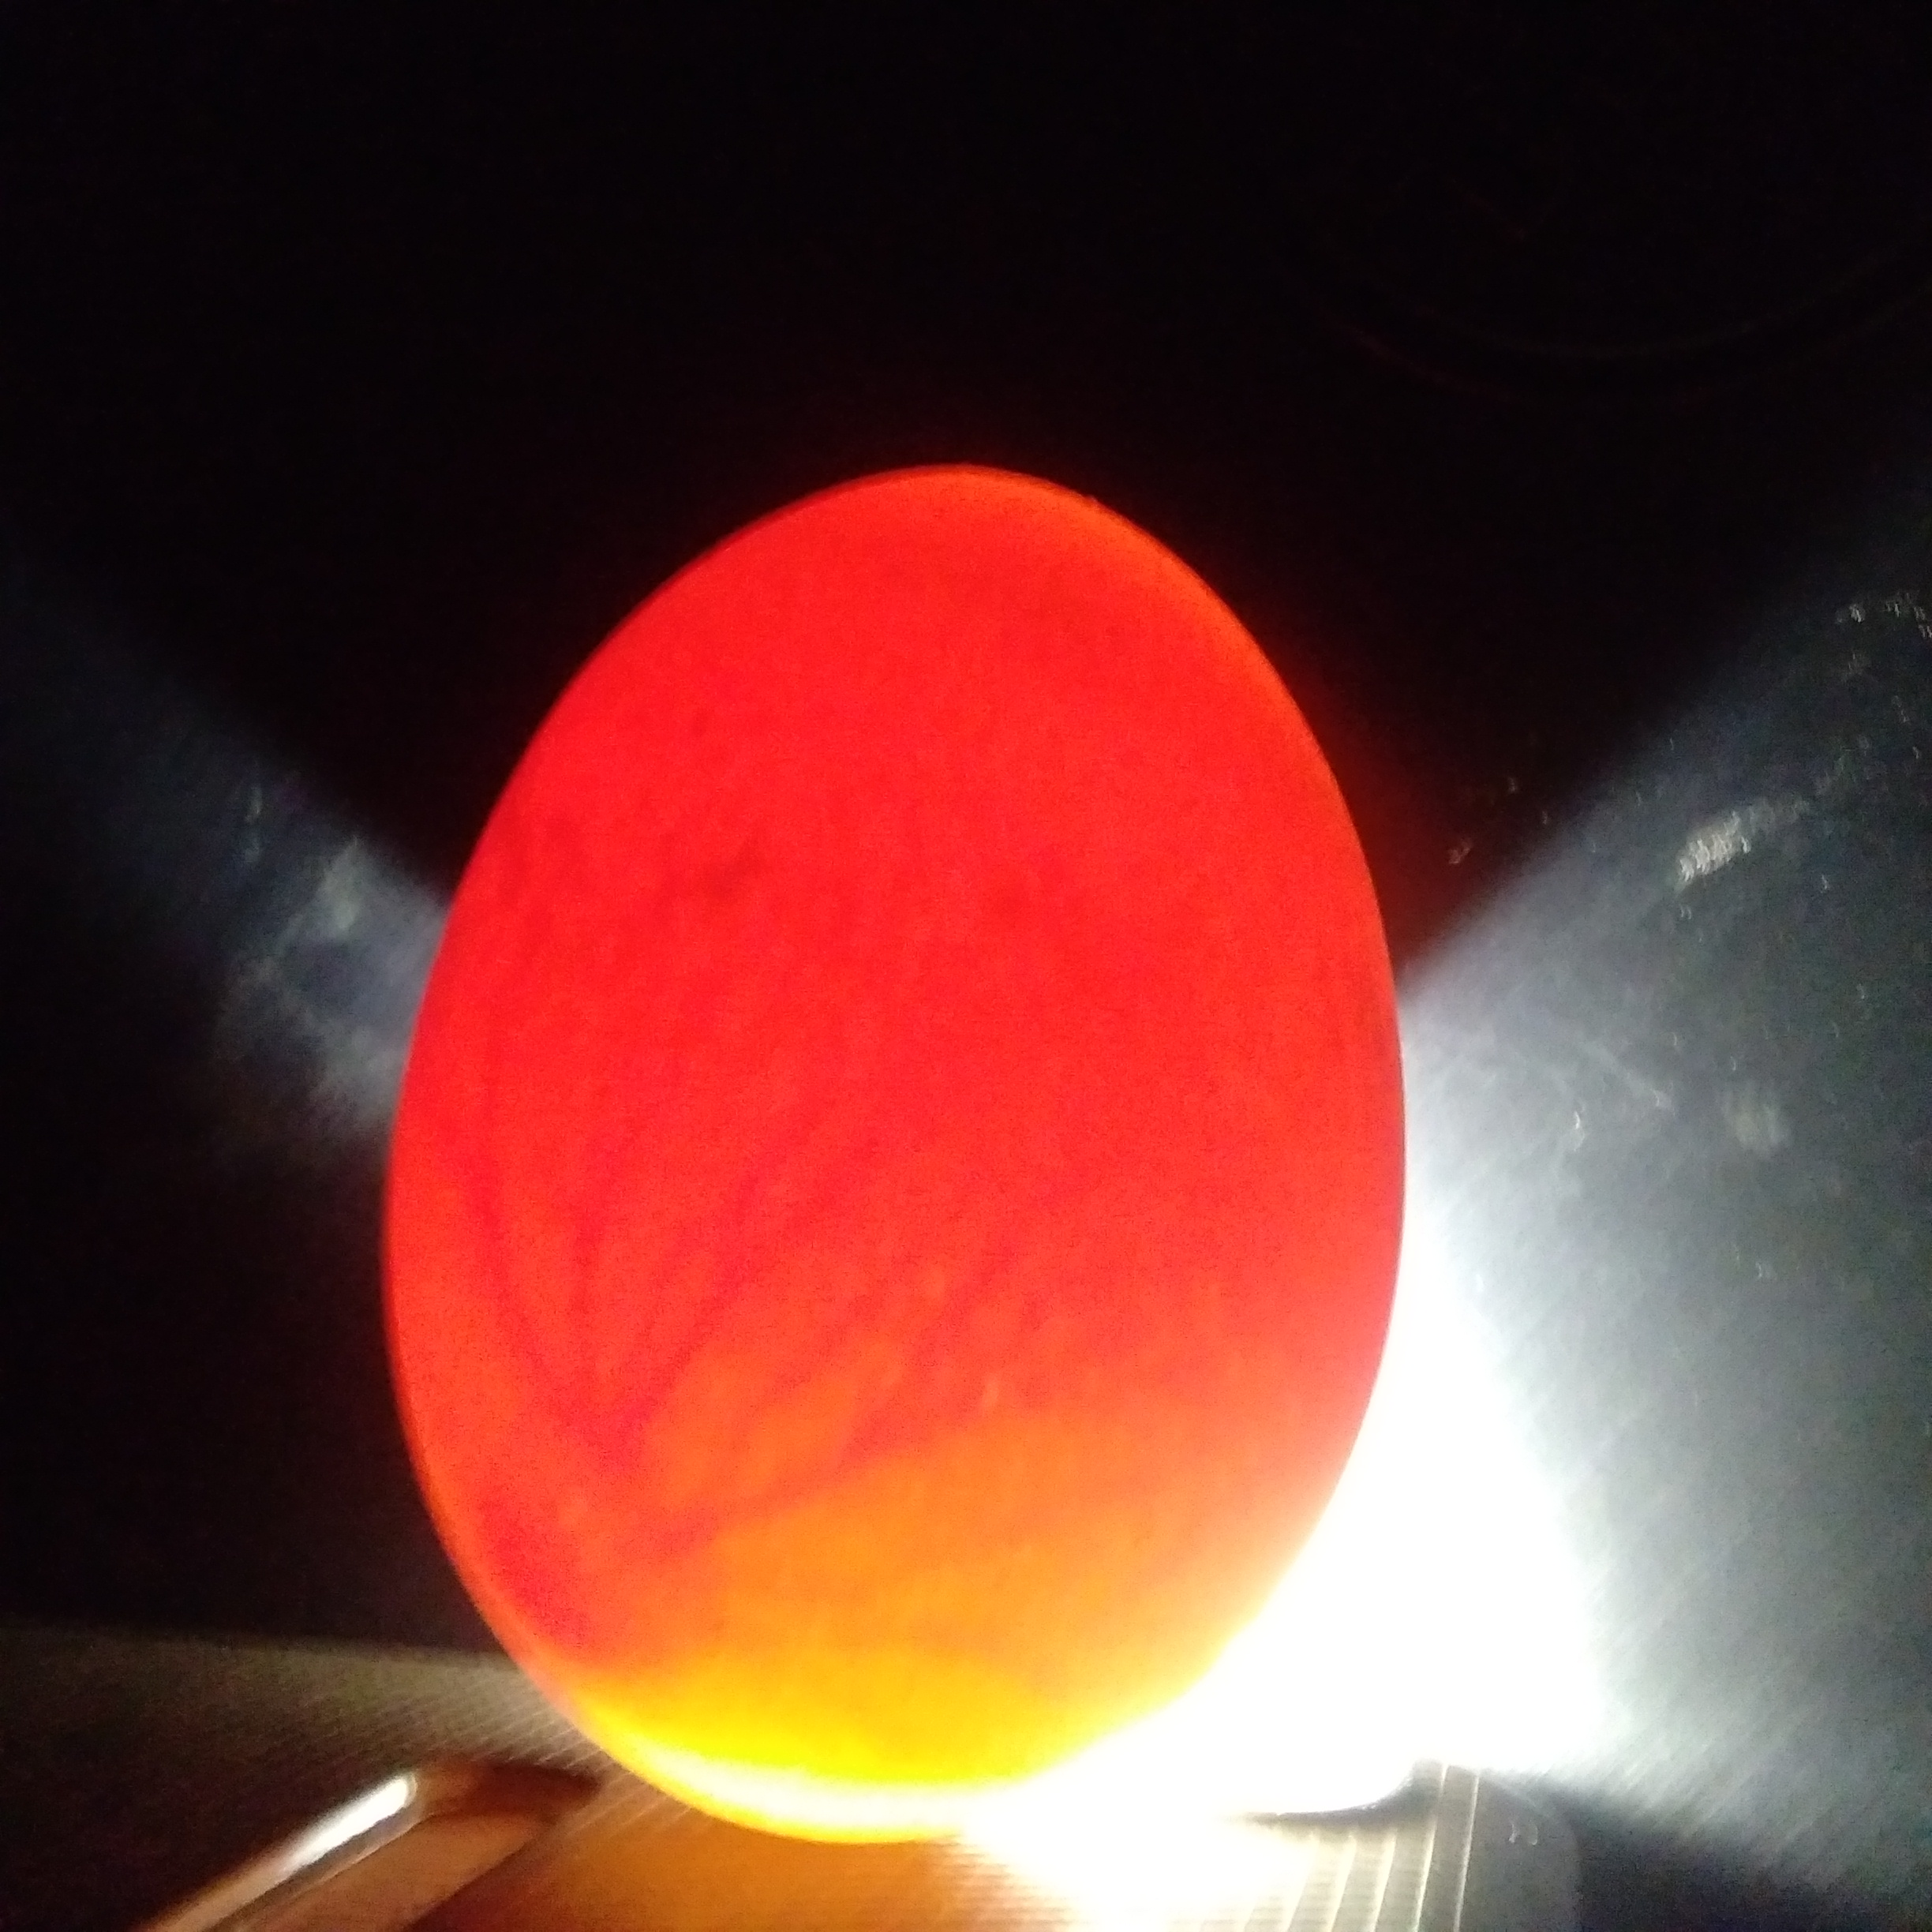bloodcell: (501, 1154, 1097, 1430), (840, 1529, 1134, 1695)
embryo: (502, 1467, 731, 1697)
